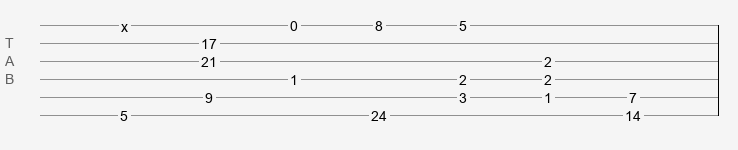0: (290, 18, 298, 28)
1: (290, 72, 298, 82), (544, 90, 552, 100)
14: (625, 108, 641, 118)
17: (201, 36, 217, 46)
2: (459, 72, 467, 82), (544, 54, 552, 64), (544, 72, 552, 82)
21: (201, 54, 217, 64)
24: (371, 108, 387, 118)
3: (459, 90, 467, 100)
5: (120, 108, 128, 118), (459, 18, 467, 28)
7: (629, 90, 637, 100)
8: (375, 18, 383, 28)
9: (205, 90, 213, 100)
x: (121, 19, 128, 27)
